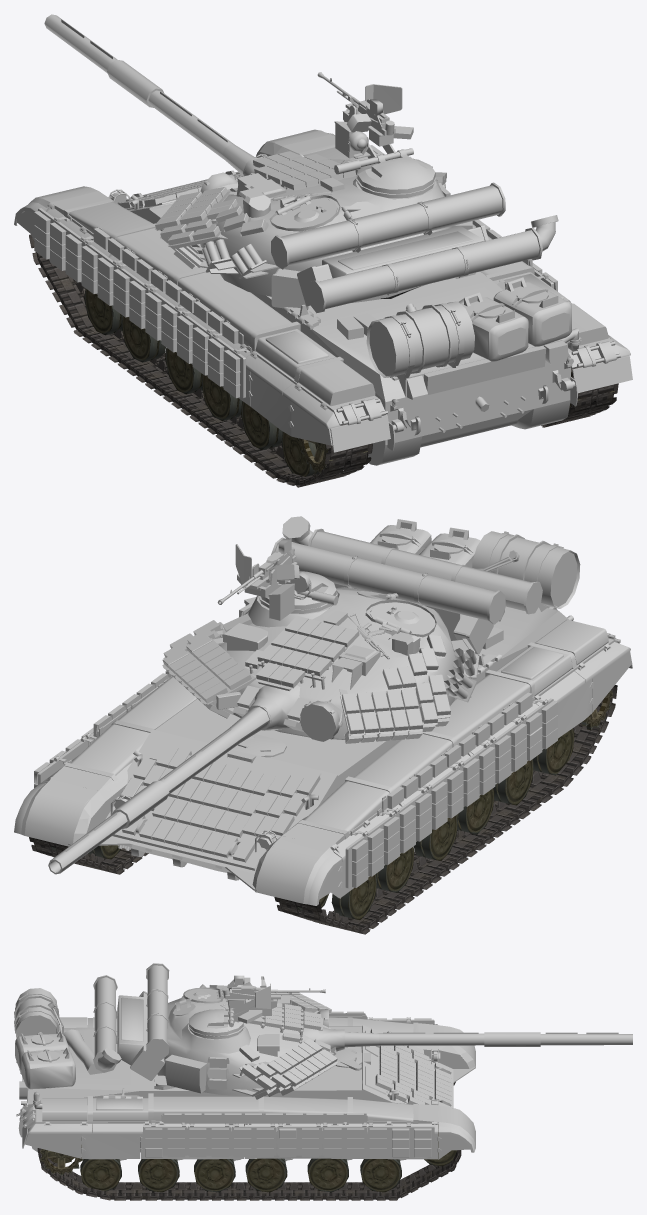
3 views of the same model, one above another, from view 1: azimuth 30°, elevation 25°; view 2: azimuth 150°, elevation 25°; view 3: azimuth 270°, elevation 25° (orthographic). The views are drawn at different scales.
Parts seen in each view (by area): view 1: default243, default248, default279, default278, default275, default276, default241, hull2.001, default231.001, default231, default280, default242 (+23 smaller); view 2: default243, default248, default279, default242, default278, default276, default231.001, default231, default275, default280, default241, hull2.001 (+23 smaller); view 3: default242, default279, default248, default277, default136, default136.001, default280, hull2.001, default243, default275, default276, default241 (+22 smaller).
Boxes of the visible parts, x1,y1,x2,y2 form: default243: [14, 186, 387, 428]; default248: [108, 154, 581, 465]; default279: [156, 153, 484, 303]; default278: [29, 234, 372, 487]; default275: [307, 215, 558, 313]; default276: [271, 182, 505, 269]; default241: [366, 301, 474, 380]; hull2.001: [462, 277, 571, 361]; default231.001: [34, 211, 241, 371]; default231: [34, 225, 241, 398]; default280: [44, 14, 255, 175]; default242: [256, 129, 630, 369]; default243: [252, 619, 630, 905]; default248: [68, 606, 573, 890]; default279: [169, 555, 483, 739]; default242: [14, 676, 196, 846]; default278: [274, 685, 617, 934]; default276: [271, 537, 505, 624]; default231.001: [350, 692, 557, 861]; default231: [350, 715, 557, 887]; default275: [282, 516, 542, 614]; default280: [48, 705, 271, 874]; default241: [472, 531, 580, 611]; hull2.001: [370, 519, 480, 567]; default242: [27, 1093, 475, 1155]; default279: [117, 977, 331, 1096]; default248: [16, 1025, 475, 1161]; default277: [37, 1124, 461, 1200]; default136: [142, 1137, 433, 1157]; default136.001: [142, 1113, 433, 1138]; default280: [344, 1032, 632, 1047]; hull2.001: [15, 1030, 75, 1089]; default243: [59, 1015, 475, 1068]; default275: [93, 975, 121, 1072]; default276: [146, 963, 169, 1059]; default241: [14, 988, 64, 1038].
Size of the model in its own units: 369 by 291 by 862.
